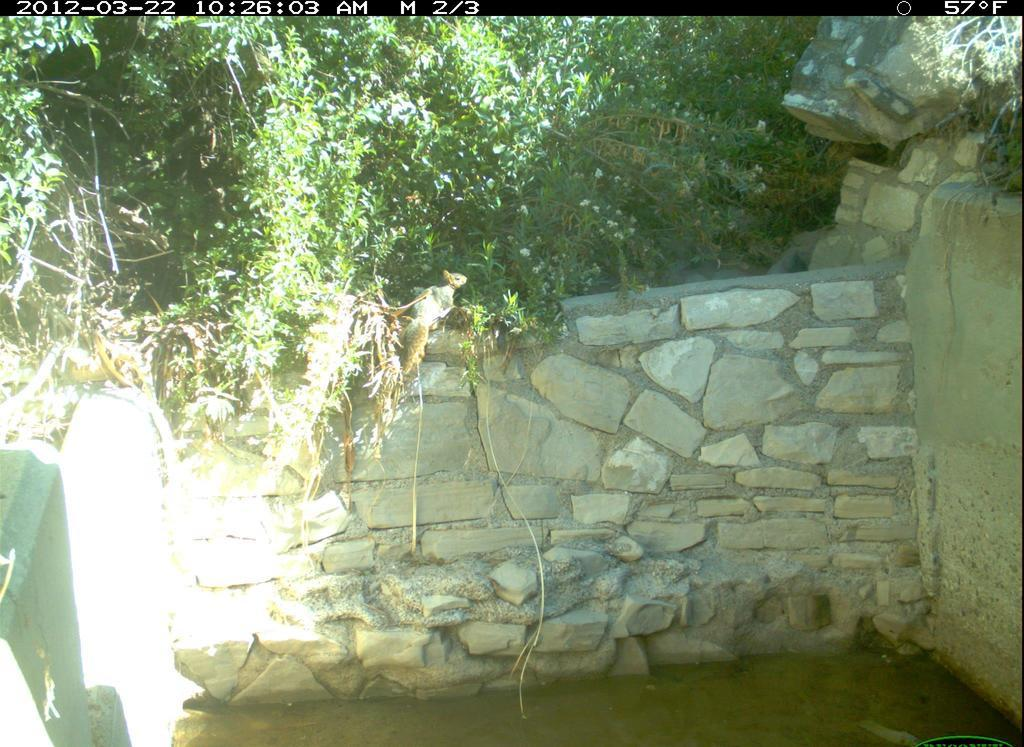squirrel: (390, 264, 475, 386)
